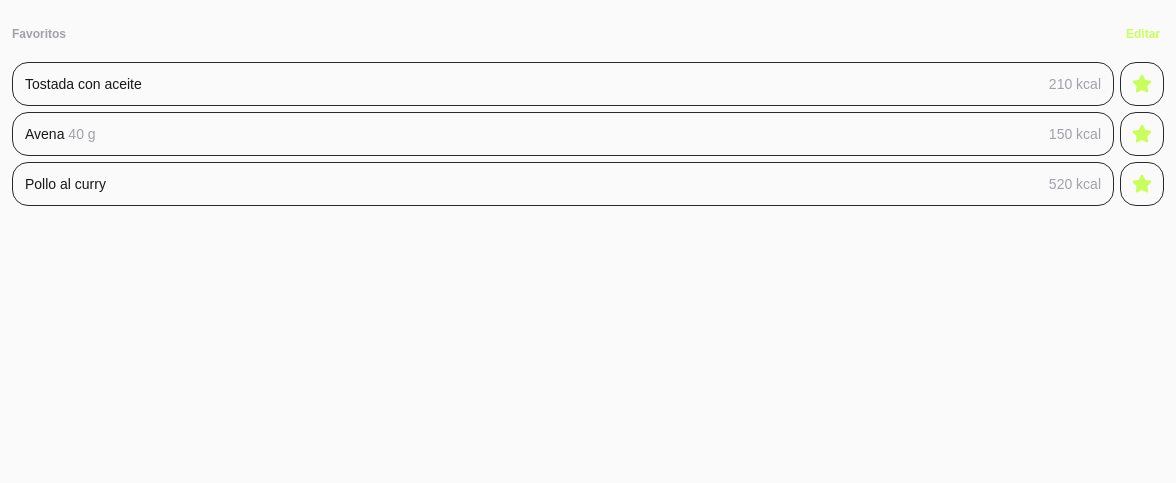
Test case: «Editar»: lista completa y lápices (R4, R12) › R4: el lápiz abre el formulario relleno; «Guardar cambios» guarda el favorito corregido (mismo id) y vuelve a la lista
Click the button "Editar".
click(1143, 34)  # box [1122,12,1164,56]
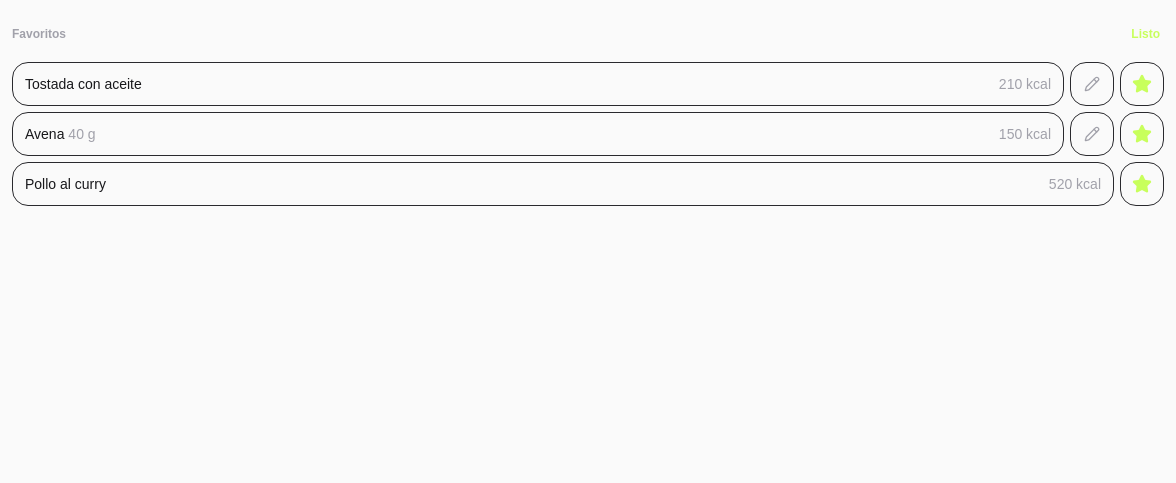
Click the button named "Editar Tostada con aceite".
click(1092, 84)  # box [1070,62,1114,106]
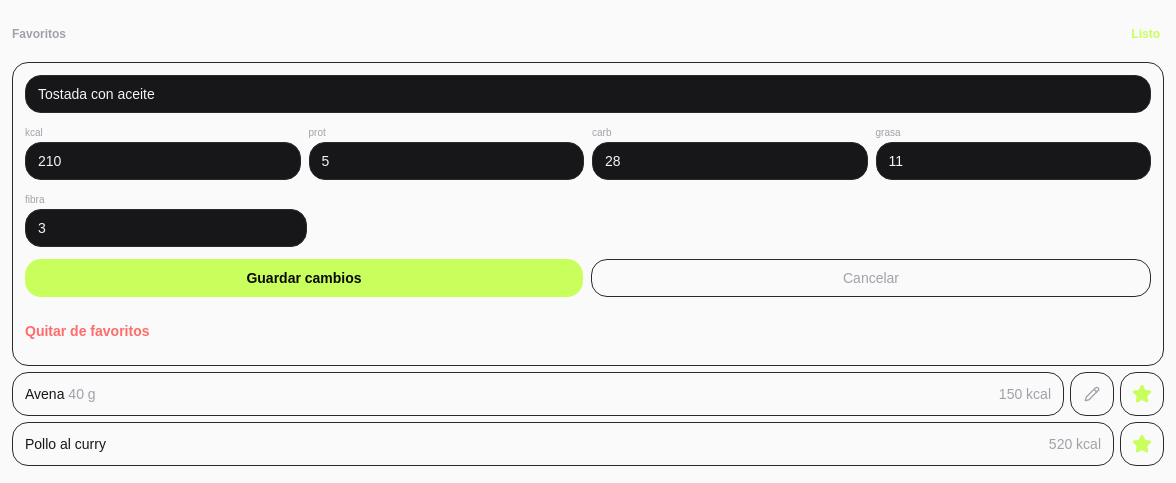
Expected: the field with placeholder "Nombre" holds "Tostada con aceite", [25,75,1151,113]
Replace the text in the number field labelled "grasa" with "9" at (1013, 161), box [876,142,1151,180]
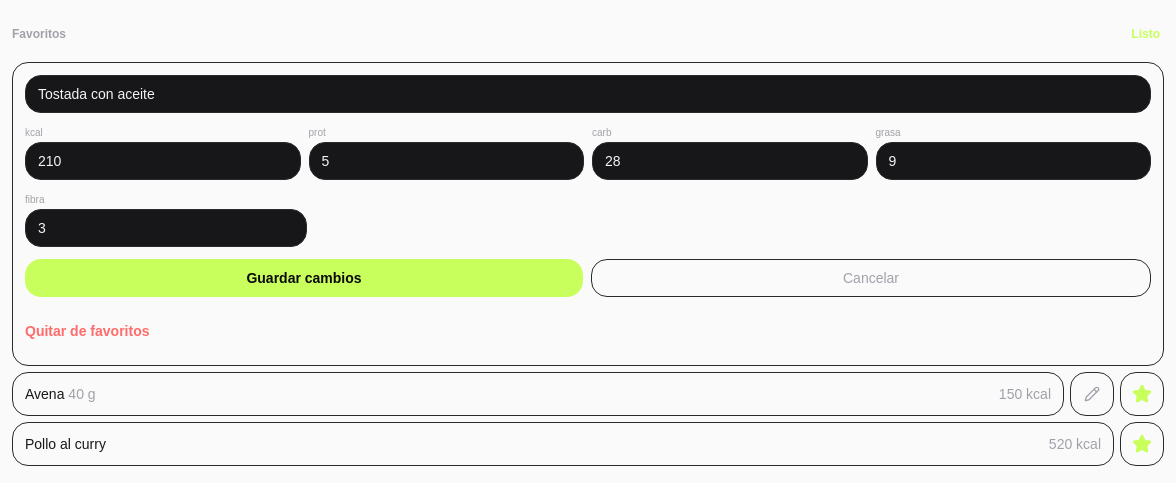
Click the button "Guardar cambios".
click(304, 278)  # box [25,259,583,297]
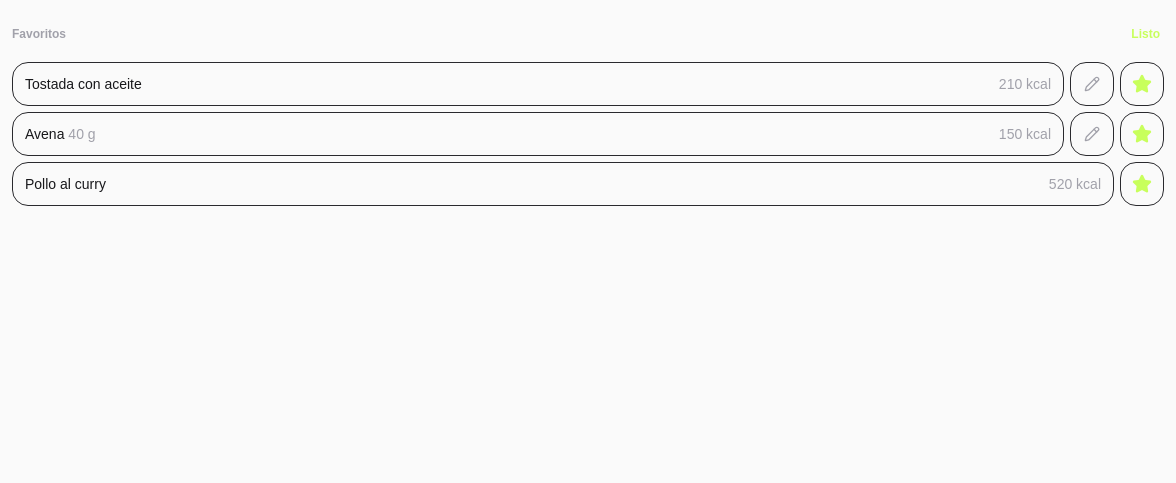
Expected: the list named "Favoritos" is shown, [12,62,1164,206]
Expected: the button "Guardar cambios" is gone
